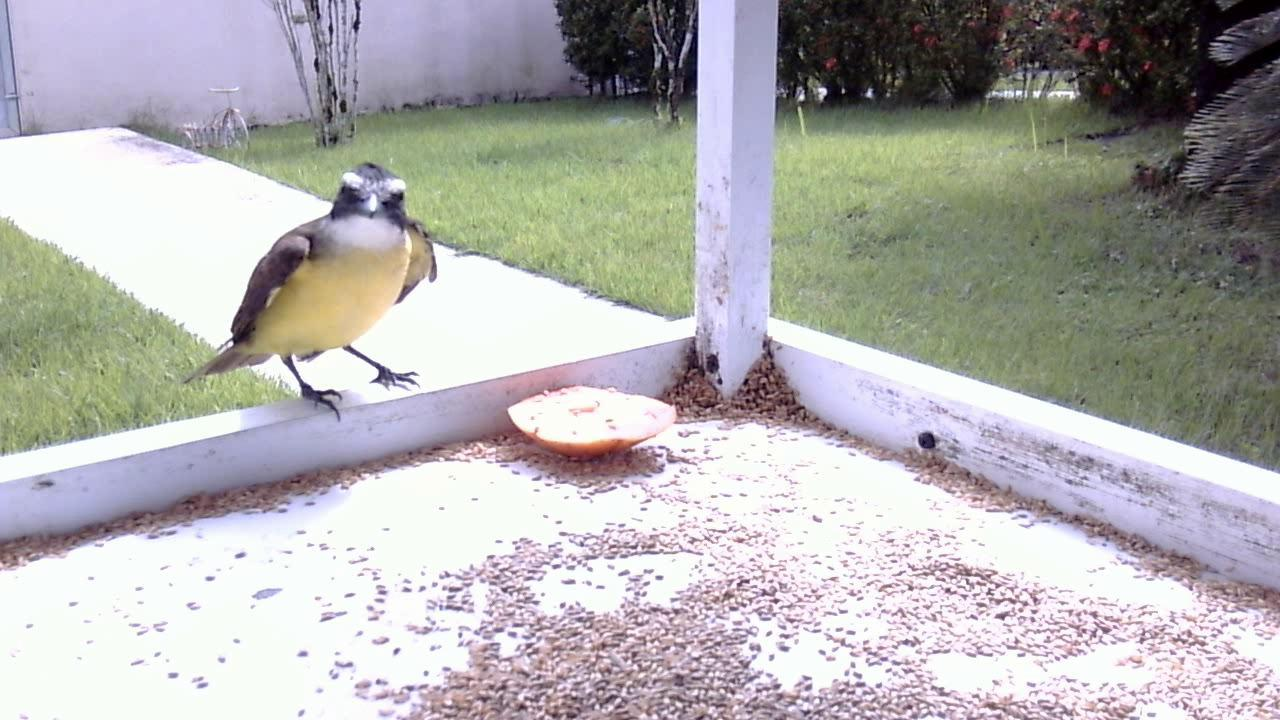bem_te_vi: (167, 154, 452, 442)
